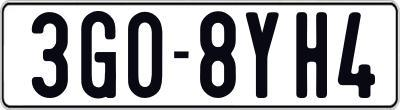0: (125, 9, 163, 96)
3: (29, 10, 69, 102)
4: (338, 11, 377, 102)
8: (197, 9, 237, 102)
G: (80, 8, 118, 96)
H: (294, 12, 325, 99)
Y: (246, 12, 283, 99)
